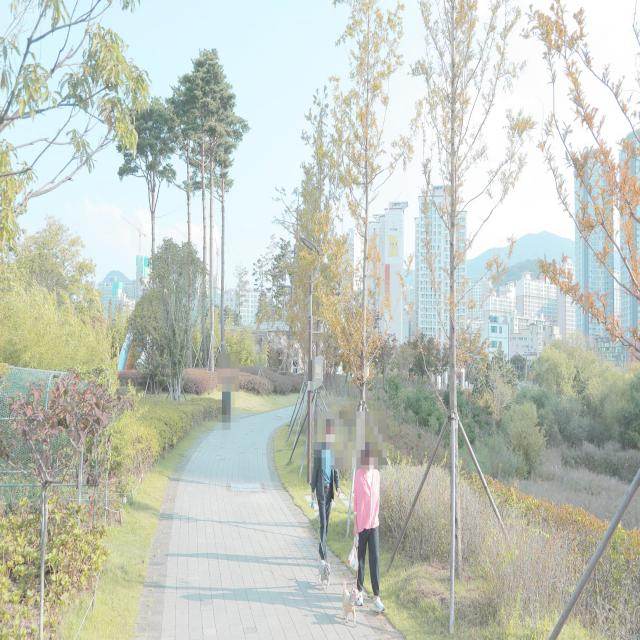Leashed_Dog: (310, 485, 332, 592), (342, 529, 365, 627)
